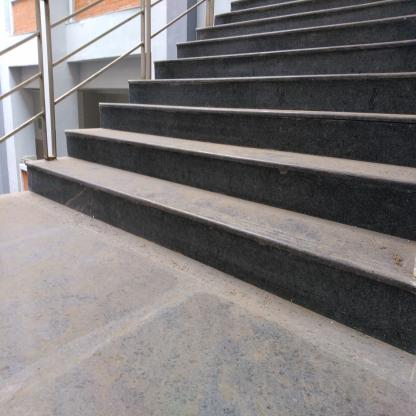stairs: (178, 44, 416, 318)
